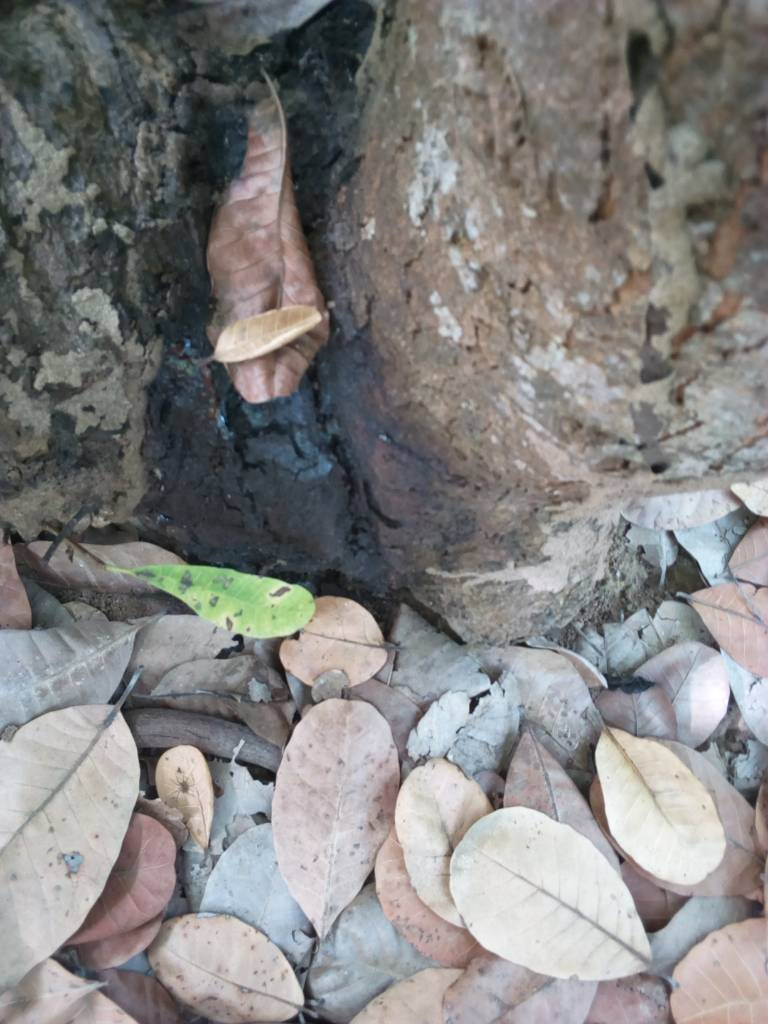Gommose: (152, 219, 382, 569)
